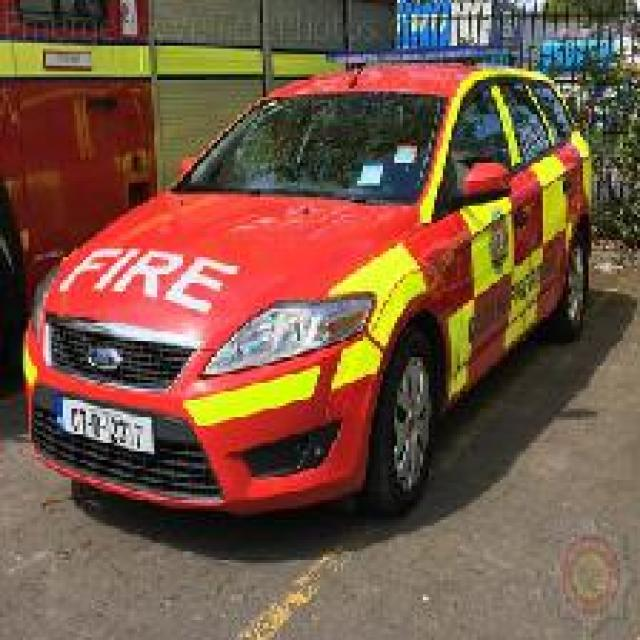Fire-truck: (17, 54, 594, 520)
